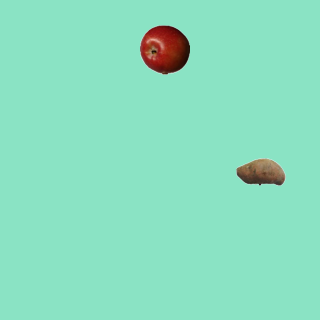Apple Braeburn: (139, 24, 189, 74)
Potato Sweet: (235, 146, 285, 196)
